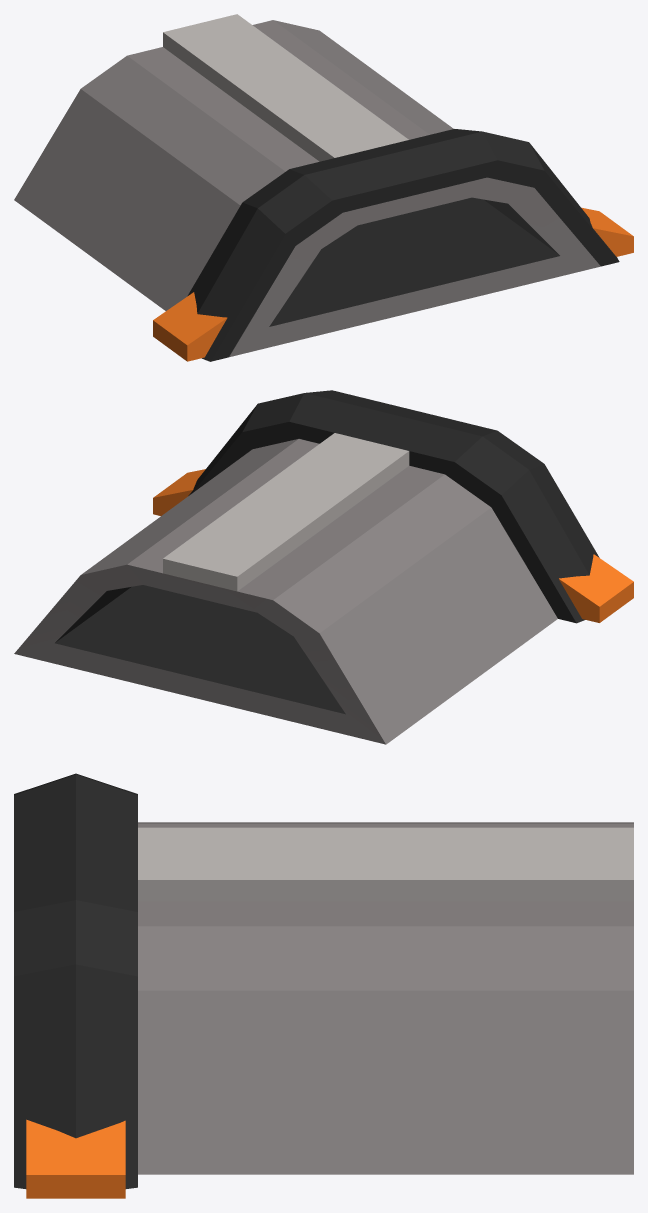
The model's file is scifi_scifi-vent-short.fbx.
3 renders of one model, top to bottom at view 1: azimuth 30°, elevation 25°; view 2: azimuth 150°, elevation 25°; view 3: azimuth 270°, elevation 25°, orthographic. The views are drawn at different scales.
Parts seen in each view (by area): view 1: scifi_scifi_vent_short; view 2: scifi_scifi_vent_short; view 3: scifi_scifi_vent_short.
Boxes of the visible parts, bbox=[...] form: scifi_scifi_vent_short: bbox=[14, 14, 633, 361]; scifi_scifi_vent_short: bbox=[14, 390, 633, 744]; scifi_scifi_vent_short: bbox=[14, 773, 633, 1198].
Size of the model in its own units: 200 by 61.18 by 167.
